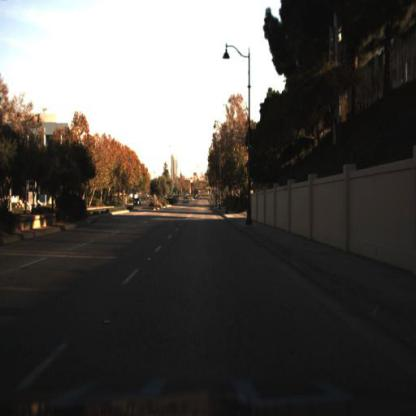car: (179, 189, 191, 207), (131, 194, 141, 209)
